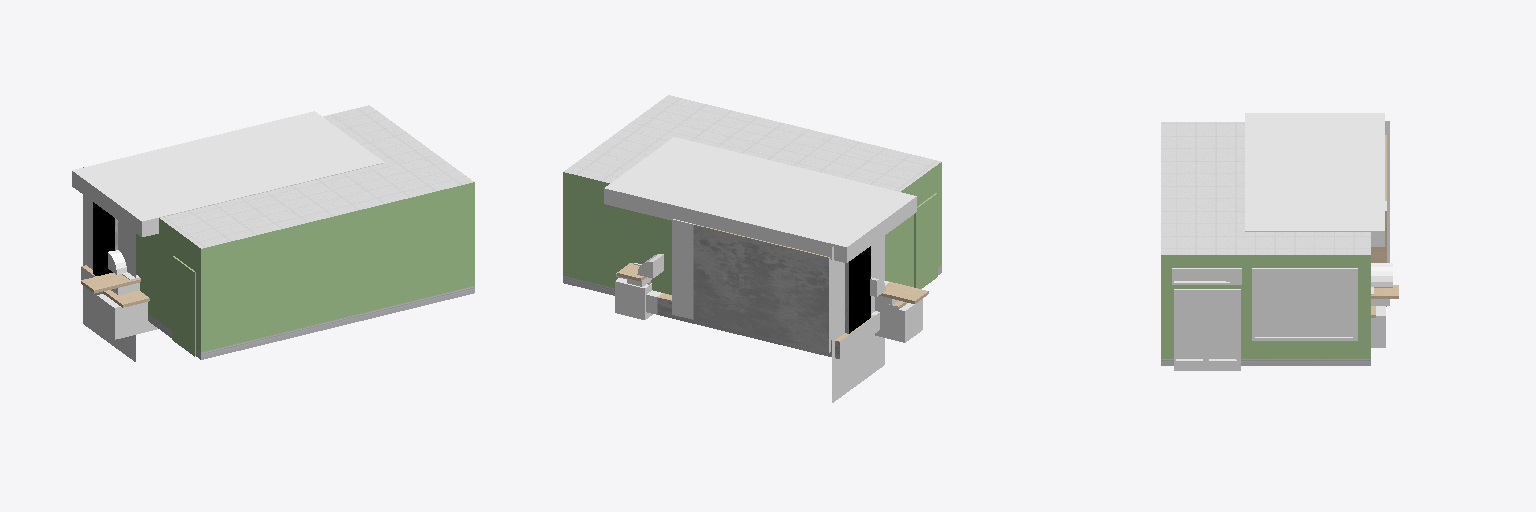
The picture shows the model from 3 angles: view 1: azimuth 30°, elevation 25°; view 2: azimuth 150°, elevation 25°; view 3: azimuth 270°, elevation 25°; orthographic projection.
Parts seen in each view (by area): view 1: pCube1, pCube19, pCube194, pCube5, pCube31, pCube13; view 2: pCube1, pCube19, pCube35, pCube194, pCube47, pCube5, pCube31, pCube2, pCube13; view 3: pCube1, pCube19, pCube38, pCube44, pCube43, pCube40, pCube2, pCylinder38.
Boxes of the visible parts, x1=… form: pCube1: x1=93, y1=105, x2=474, y2=359; pCube19: x1=72, y1=111, x2=384, y2=236; pCube194: x1=83, y1=167, x2=135, y2=361; pCube5: x1=172, y1=256, x2=195, y2=356; pCube31: x1=97, y1=294, x2=157, y2=339; pCube13: x1=81, y1=273, x2=140, y2=293; pCube1: x1=563, y1=95, x2=941, y2=333; pCube19: x1=604, y1=137, x2=916, y2=262; pCube35: x1=672, y1=219, x2=831, y2=352; pCube194: x1=832, y1=236, x2=884, y2=402; pCube47: x1=646, y1=290, x2=879, y2=358; pCube5: x1=914, y1=193, x2=937, y2=288; pCube31: x1=875, y1=299, x2=922, y2=342; pCube2: x1=615, y1=278, x2=652, y2=319; pCube13: x1=879, y1=281, x2=928, y2=303; pCube1: x1=1161, y1=122, x2=1370, y2=365; pCube19: x1=1245, y1=113, x2=1384, y2=246; pCube38: x1=1252, y1=268, x2=1357, y2=340; pCube44: x1=1207, y1=289, x2=1240, y2=370; pCube43: x1=1174, y1=289, x2=1206, y2=370; pCube40: x1=1172, y1=268, x2=1241, y2=284; pCube2: x1=1371, y1=306, x2=1385, y2=347; pCylinder38: x1=1371, y1=263, x2=1392, y2=287.
Bounding box in the file's own units: 10.61 × 4.98 × 6.79.
Materials: 3 (1 with a texture image).